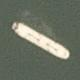ship: (0, 0, 35, 3)
